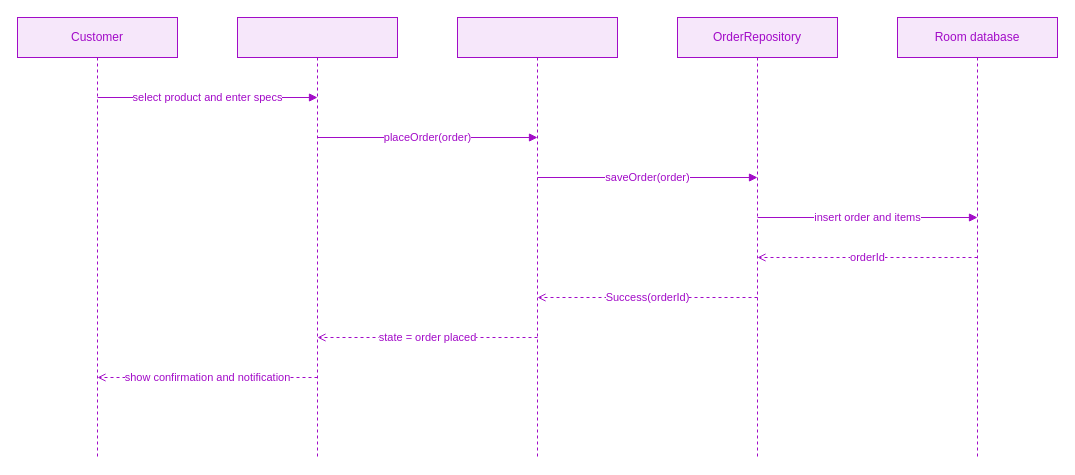
This 1075x475 diagram has some shape labels left out. The box of each missing label's shape, as (x1, y1, x2, y2) in pixels:
OrderScreen: (236, 16, 398, 458)
OrderViewModel: (456, 16, 618, 458)
